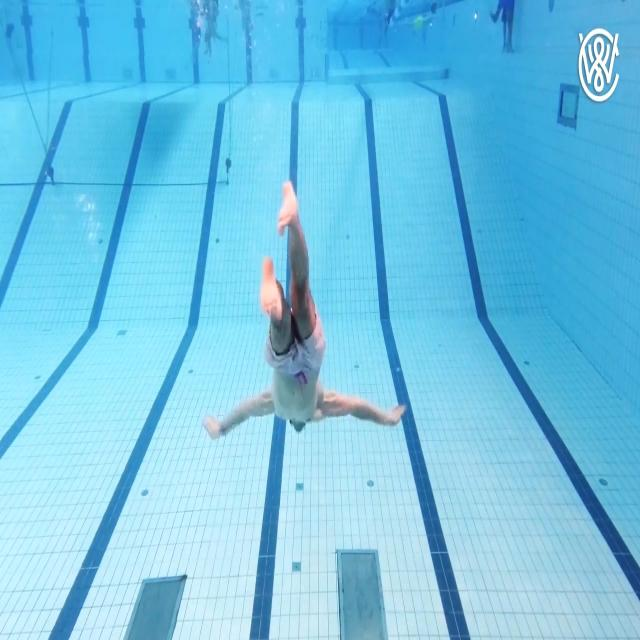Swimming: (198, 179, 408, 441)
